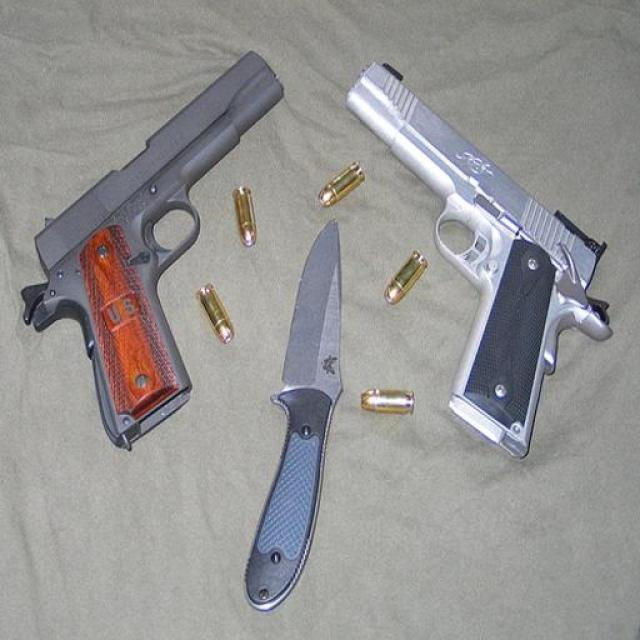pistol: (341, 56, 611, 462), (20, 49, 285, 449)
